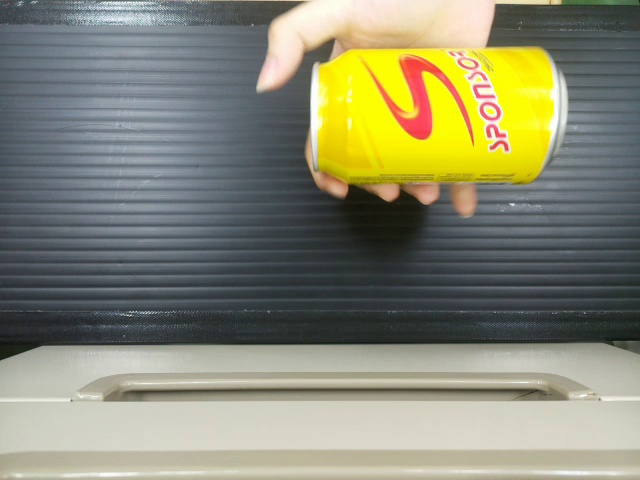can: (309, 44, 568, 182)
